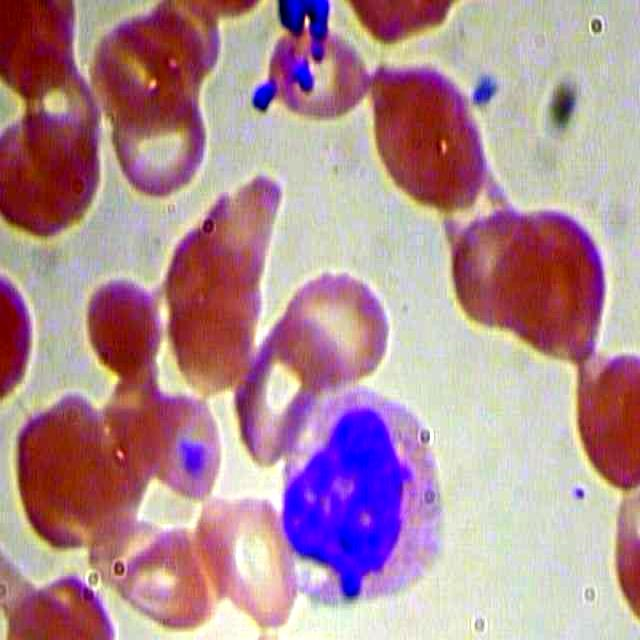Platelets: (468, 65, 503, 114), (248, 79, 278, 117)
RBC: (364, 55, 494, 220), (493, 195, 623, 360), (1, 111, 102, 244), (284, 269, 393, 387), (214, 496, 301, 632), (114, 514, 216, 630), (108, 88, 210, 201), (260, 23, 373, 120), (139, 383, 226, 504), (83, 274, 171, 378)
WBC: (268, 377, 468, 607)
